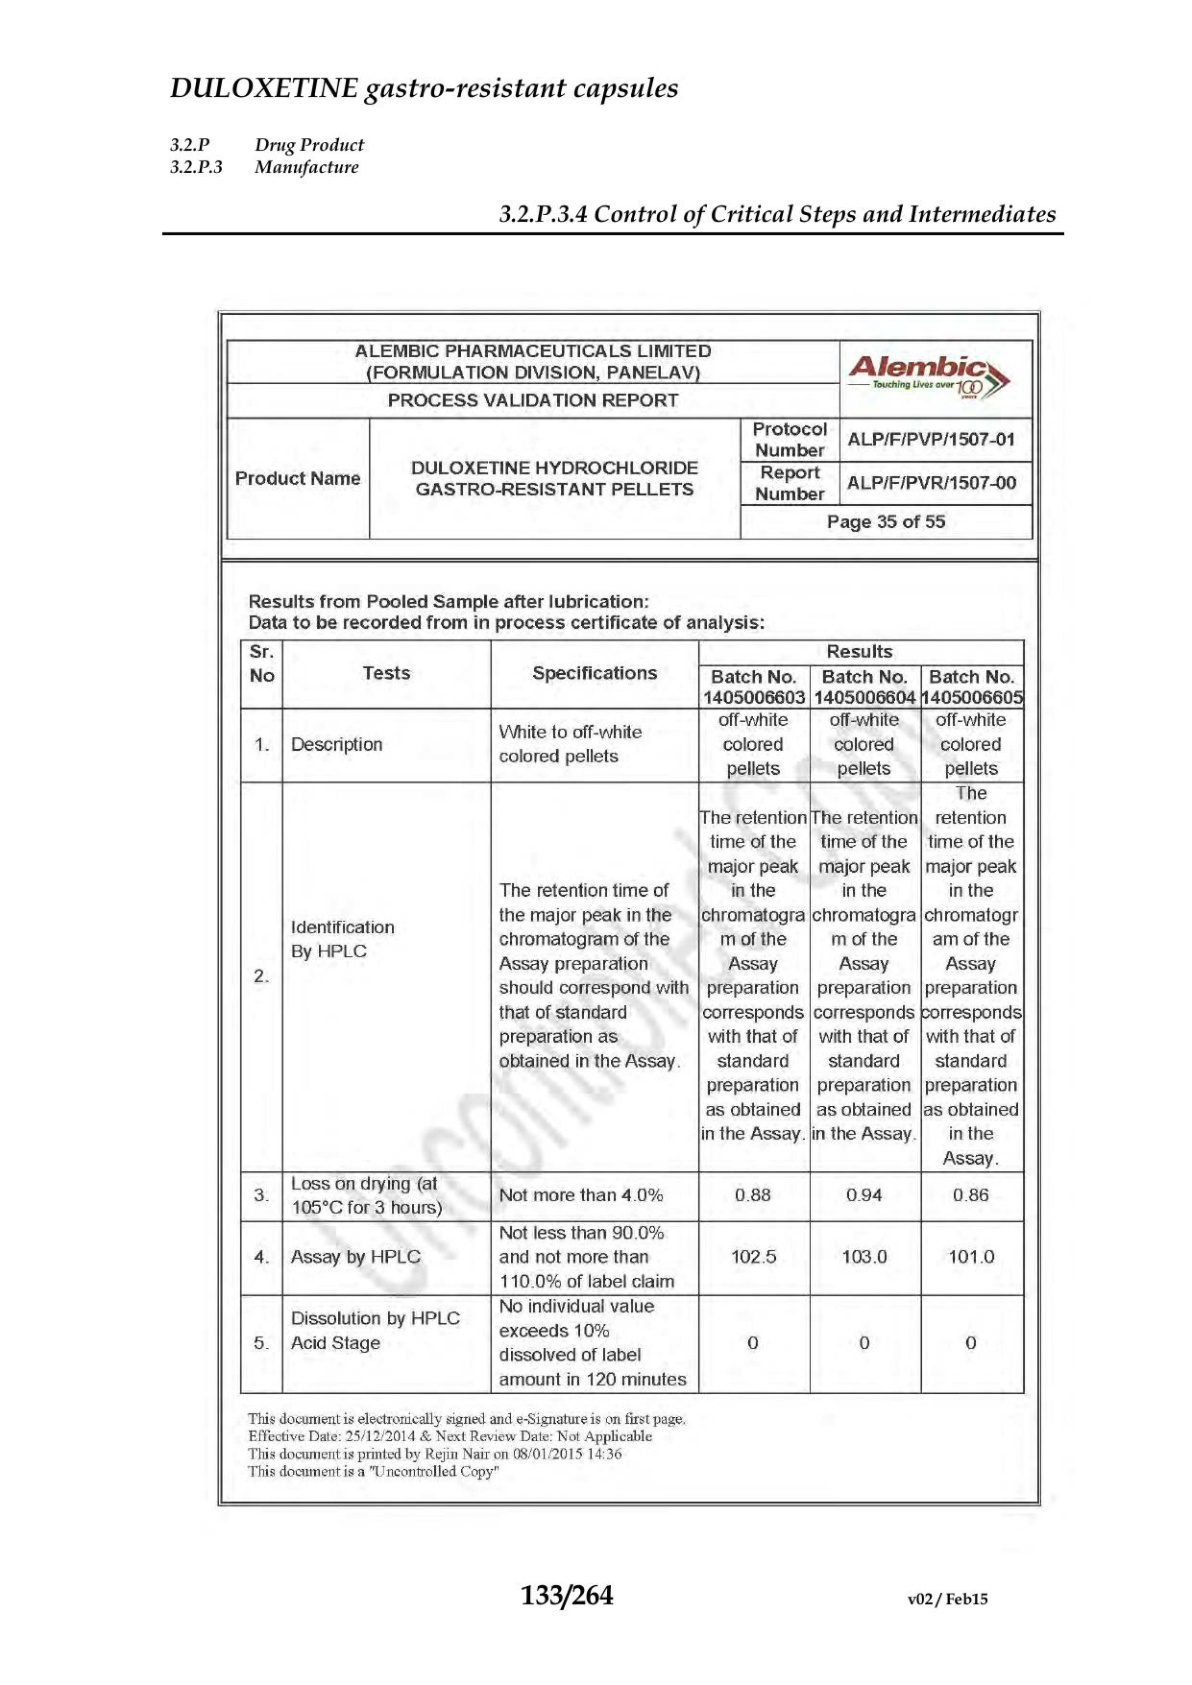merged_cells: (239, 637, 1026, 1393), (226, 337, 1035, 541)
